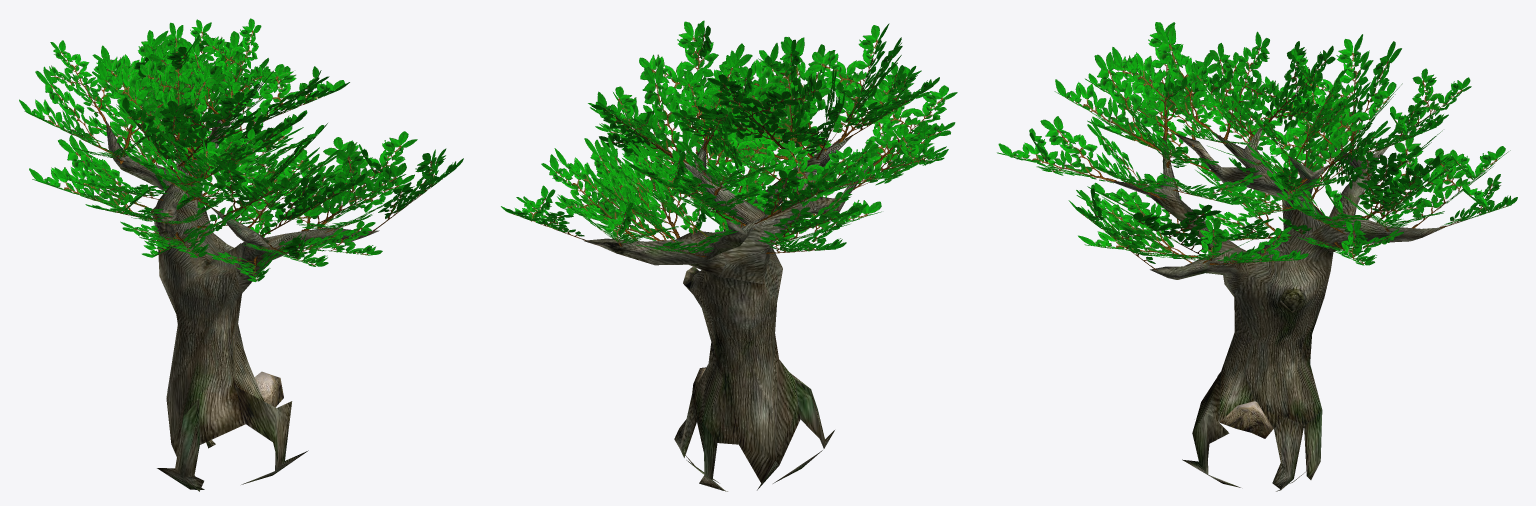
Rendered from oaktree.gltf.
3 views of the same model, side by side, from view 1: azimuth 30°, elevation 25°; view 2: azimuth 150°, elevation 25°; view 3: azimuth 270°, elevation 25° (orthographic).
Visible parts, largest first — view 1: leaves, oak; view 2: leaves, oak; view 3: leaves, oak.
Part boxes in pixels (bbox=[...]): leaves: bbox=[19, 18, 463, 281]; oak: bbox=[105, 116, 379, 491]; leaves: bbox=[501, 20, 957, 257]; oak: bbox=[583, 136, 877, 491]; leaves: bbox=[997, 22, 1517, 270]; oak: bbox=[1109, 124, 1444, 491].
Bounding box in the file's own units: 4.61 × 5.5 × 6.12.
Materials: 2 (2 with a texture image).
